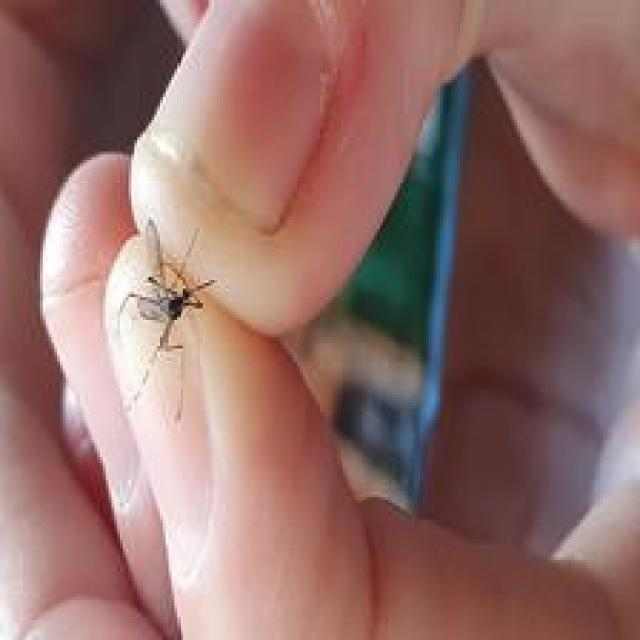Aedes albopictus: (115, 216, 218, 424)
